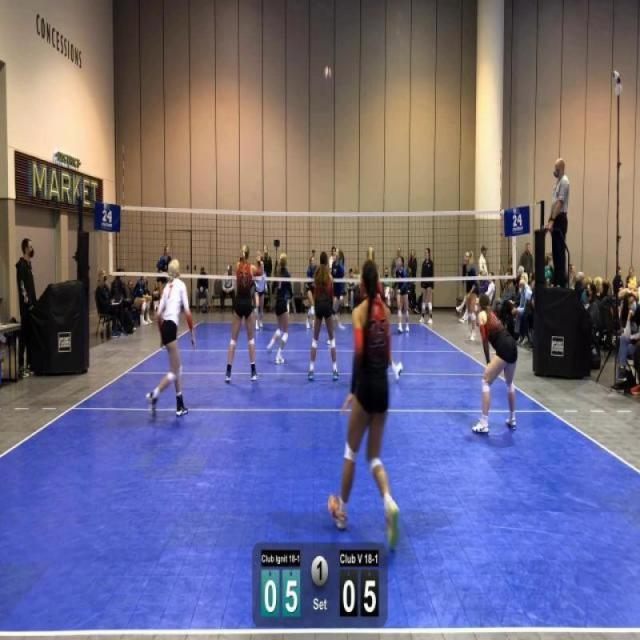volleyball: (323, 64, 332, 82)
